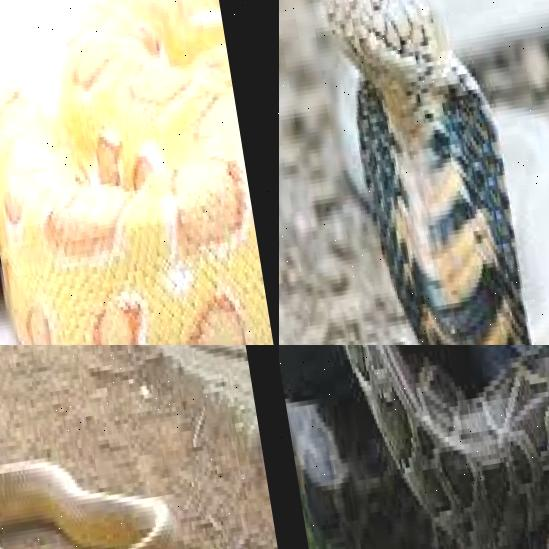snake: (0, 0, 279, 345), (324, 0, 549, 345), (279, 345, 549, 549), (0, 345, 248, 549)
